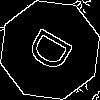D: (25, 25, 83, 80)
